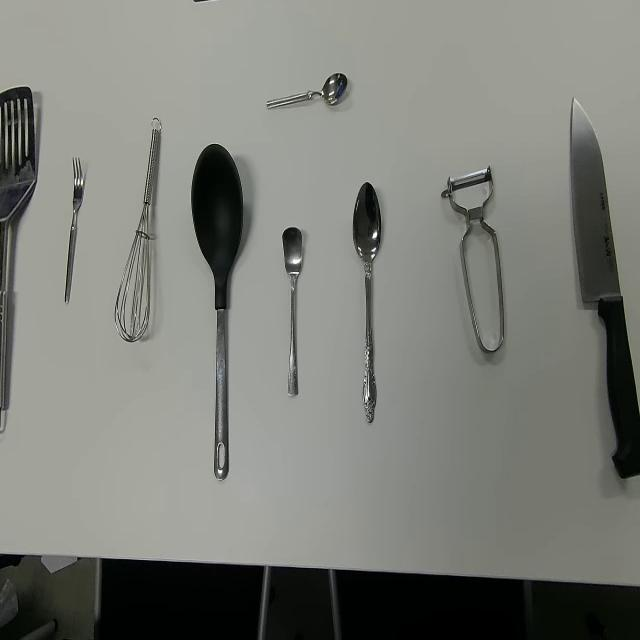Desert-Spoon: (352, 180, 383, 424)
Dinner-Fork: (62, 155, 84, 305)
Kitchen-Knife: (569, 95, 640, 482)
Peeler: (441, 163, 505, 355)
Serving-Spoon: (190, 141, 244, 482), (0, 84, 37, 435)
Tea-Spoon: (282, 224, 302, 397), (266, 71, 348, 112)
Whisk: (114, 115, 162, 344)
